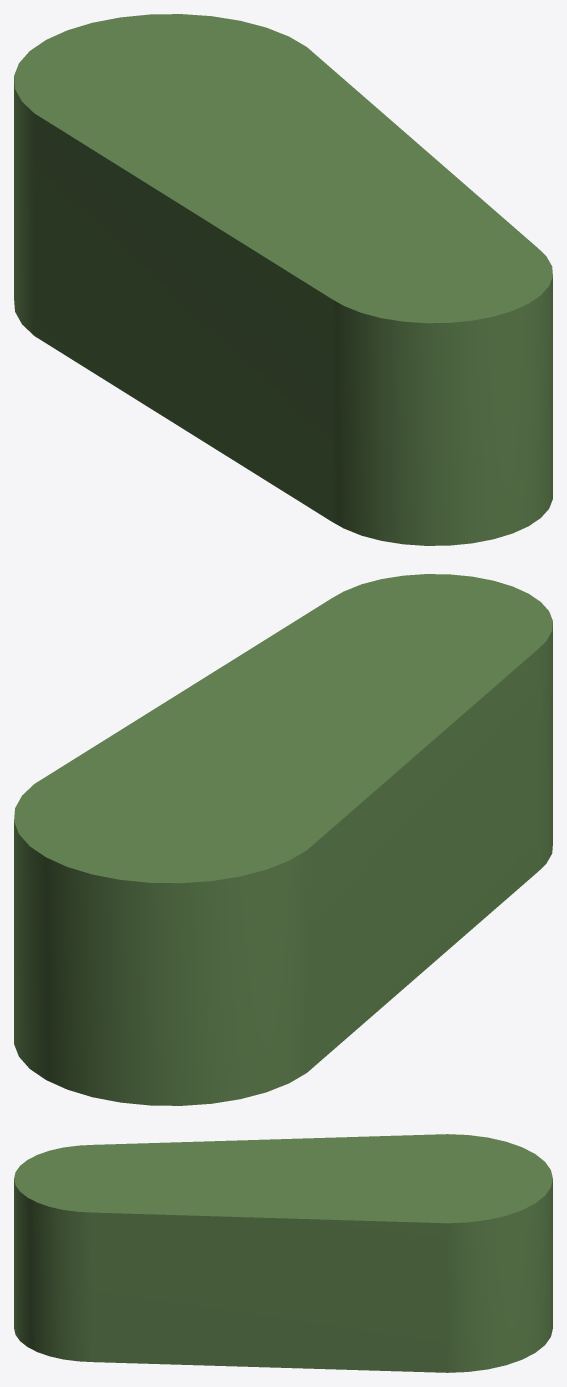
File: Flipper_Collision.fbx
3 views of the same model, one above another, from view 1: azimuth 30°, elevation 25°; view 2: azimuth 150°, elevation 25°; view 3: azimuth 270°, elevation 25° (orthographic). The views are drawn at different scales.
Parts seen in each view (by area): view 1: Flipper_Collision; view 2: Flipper_Collision; view 3: Flipper_Collision.
Part boxes in pixels (x1,y1,x2,y2): Flipper_Collision: (14,14,552,545); Flipper_Collision: (14,574,552,1105); Flipper_Collision: (14,1134,552,1372).
Size of the model in its own units: 0.0832 by 0.065 by 0.2124.
